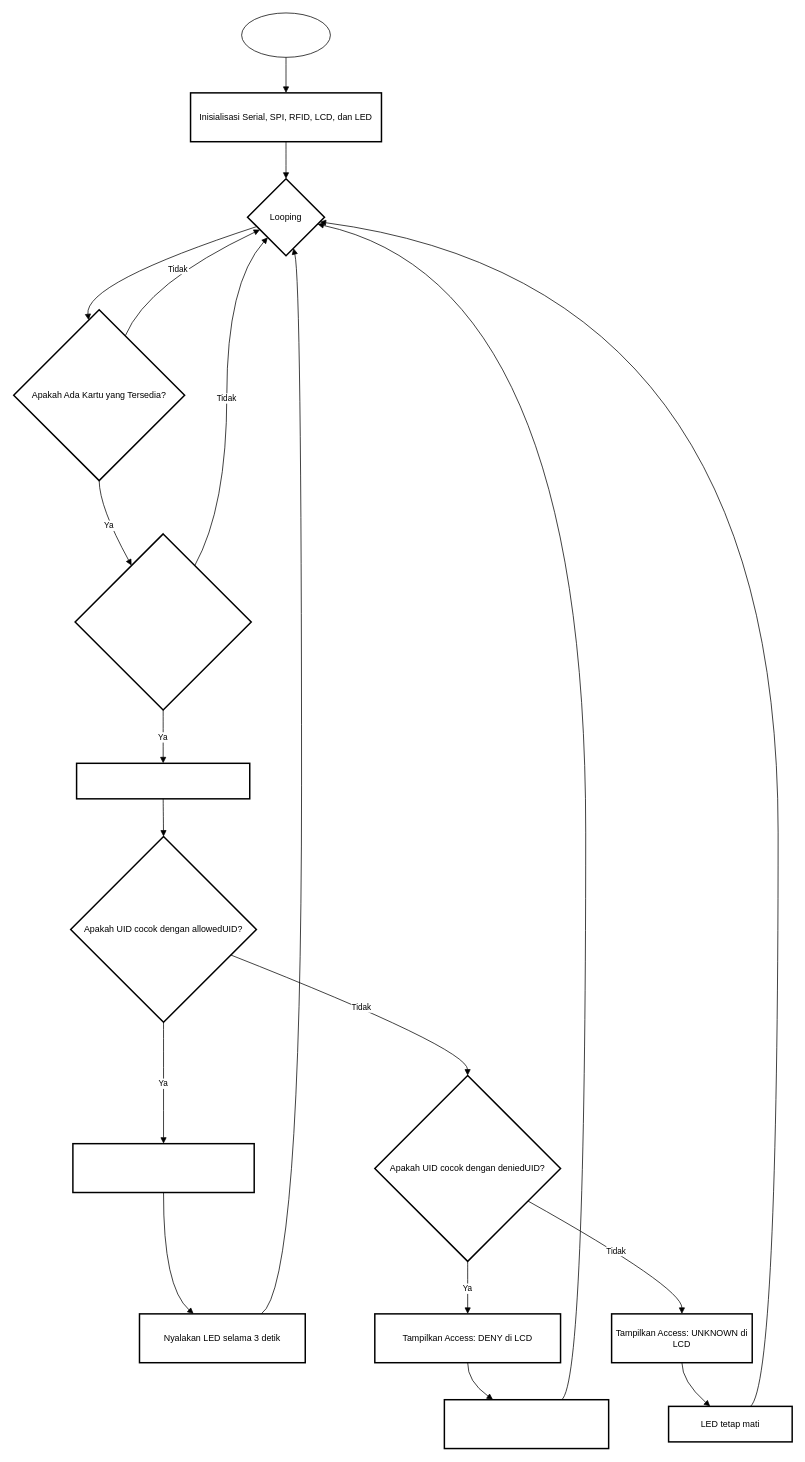
Image size: 805x1462. Some labels were removed from this diagram. The shapes that lost their labels are listed below. From the top down, each one's centre as x and y in pixels, then its label:
At (285,34): "Mulai".
At (163,621): "Apakah Kartu Bisa Dibaca?".
At (162,780): "Membaca UID dari Kartu".
At (163,1168): "Tampilkan Access: ALLOW di LCD".
At (526,1424): "LED berkedip selama 3 detik".
